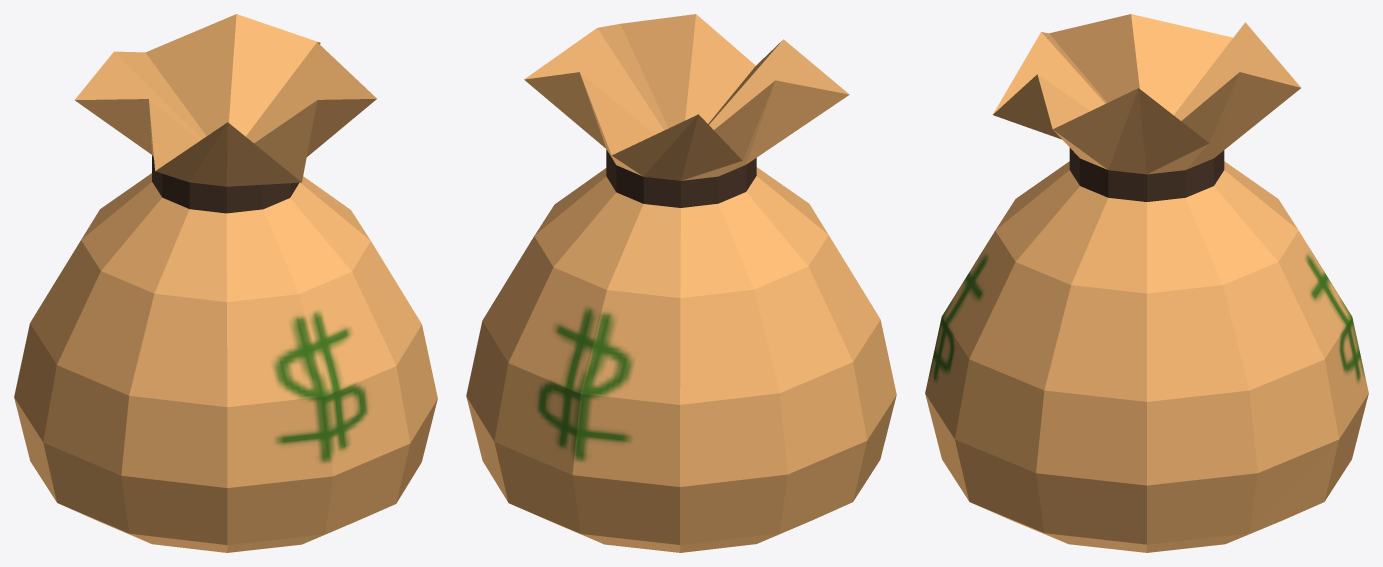
The picture shows the model from 3 angles, left to right: view 1: azimuth 30°, elevation 25°; view 2: azimuth 150°, elevation 25°; view 3: azimuth 270°, elevation 25°; orthographic projection. The views are drawn at different scales.
Parts seen in each view (by area): view 1: bag; view 2: bag; view 3: bag.
Part boxes in pixels (x1=…): bag: x1=14, y1=14, x2=437, y2=552; bag: x1=466, y1=14, x2=896, y2=552; bag: x1=925, y1=14, x2=1368, y2=552.
Bounding box in the file's own units: 420 × 427 × 482.
